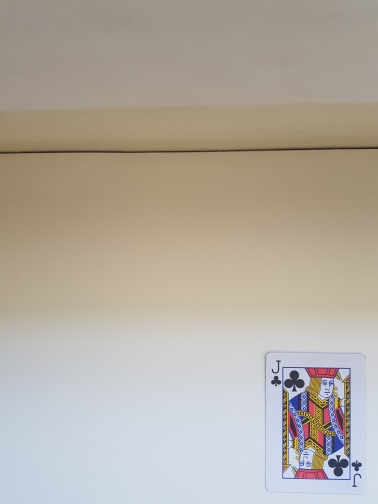jack: (264, 351, 367, 496)
